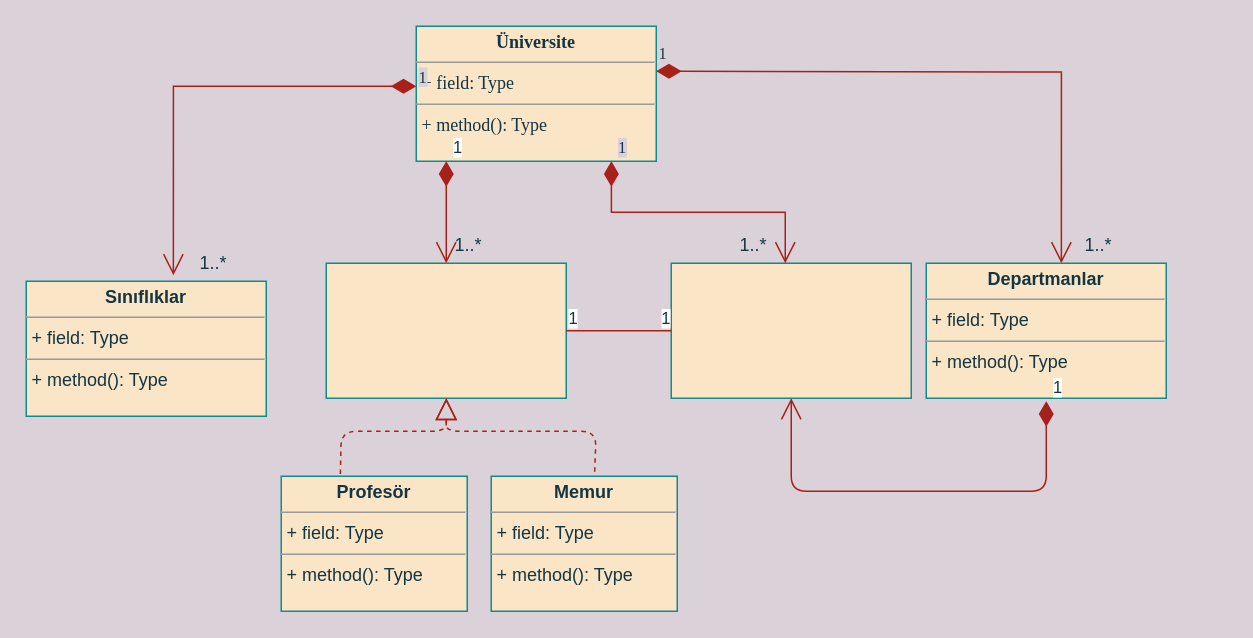
This 1253x638 diagram has some shape labels left out. Here are the shapes that lost their labels. From the top down, the centre of each, then its label:
pixel 445 330: Çalışanlar + field: Type + method(): Type
pixel 790 330: Çalışma Ofisleri + field: Type + method(): Type
